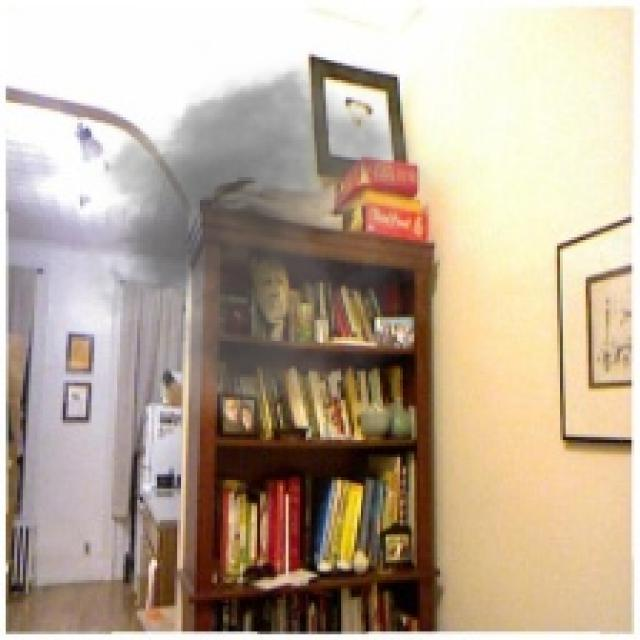smoke: (57, 40, 483, 429)
